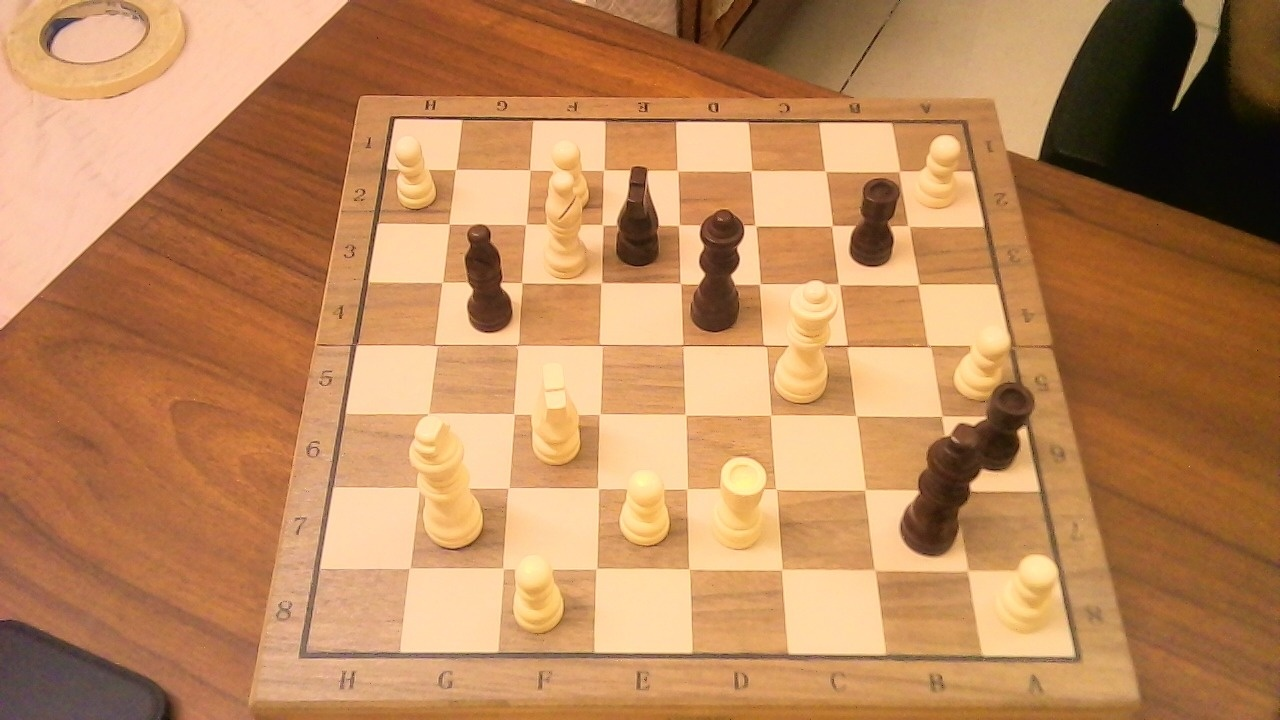B: (532, 160, 597, 282)
K: (406, 402, 493, 552)
N: (518, 354, 591, 470)
P: (989, 544, 1068, 637), (504, 544, 572, 638), (947, 316, 1019, 404), (608, 459, 677, 550), (910, 126, 970, 213), (386, 127, 442, 211), (540, 132, 594, 213)
Q: (772, 269, 847, 407)
R: (702, 445, 776, 556)
b: (453, 209, 520, 337)
k: (894, 408, 994, 563)
n: (608, 155, 672, 270)
q: (686, 199, 760, 336)
r: (962, 370, 1044, 473), (843, 164, 912, 272)
